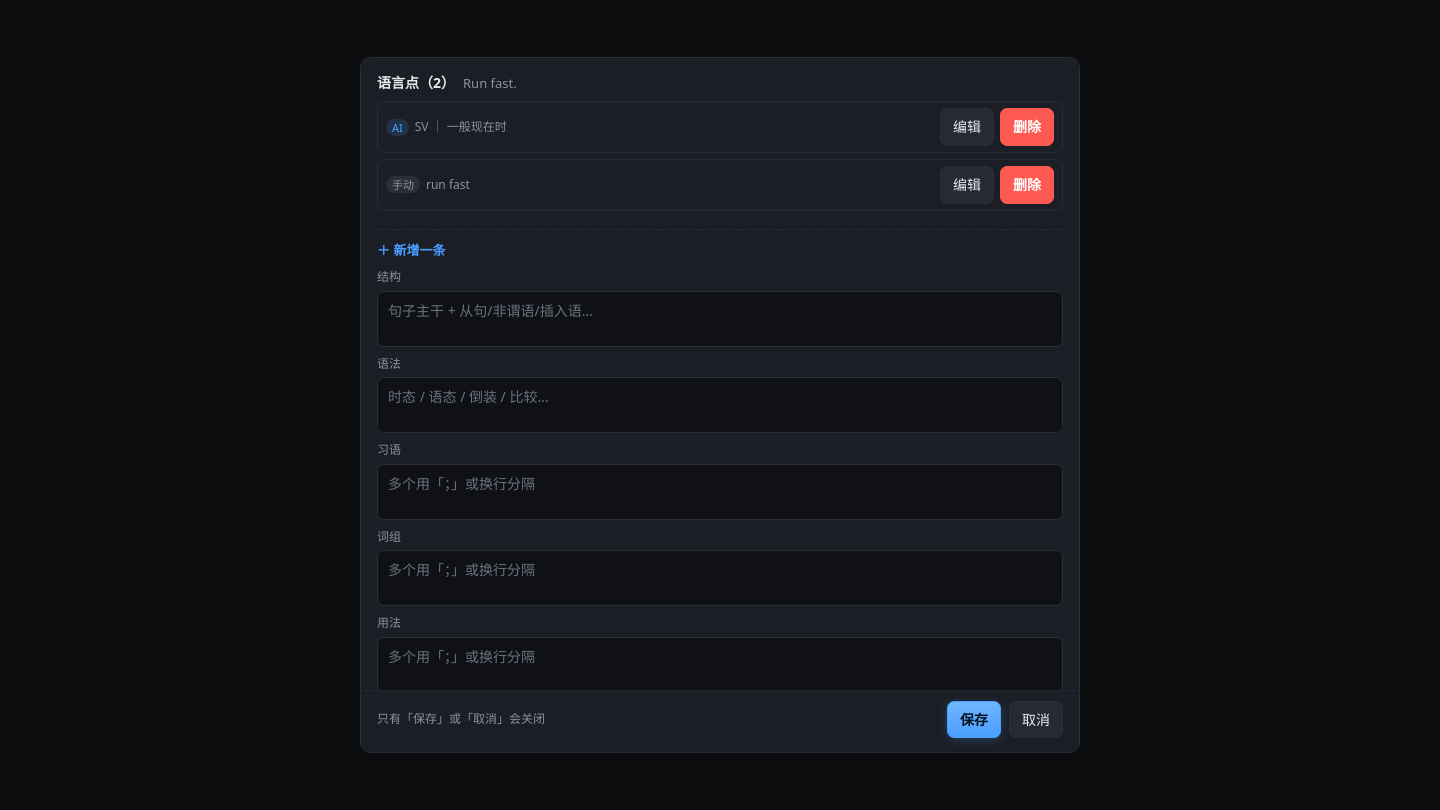
Test: LanguageEditor：已有语言点 › 点「删除」不会顺带进入编辑
The image size is (1440, 810).
Click the button "删除" in the row of "SV ｜ 一般现在时".
click(1027, 127)  # box 1000,108 -> 1054,146
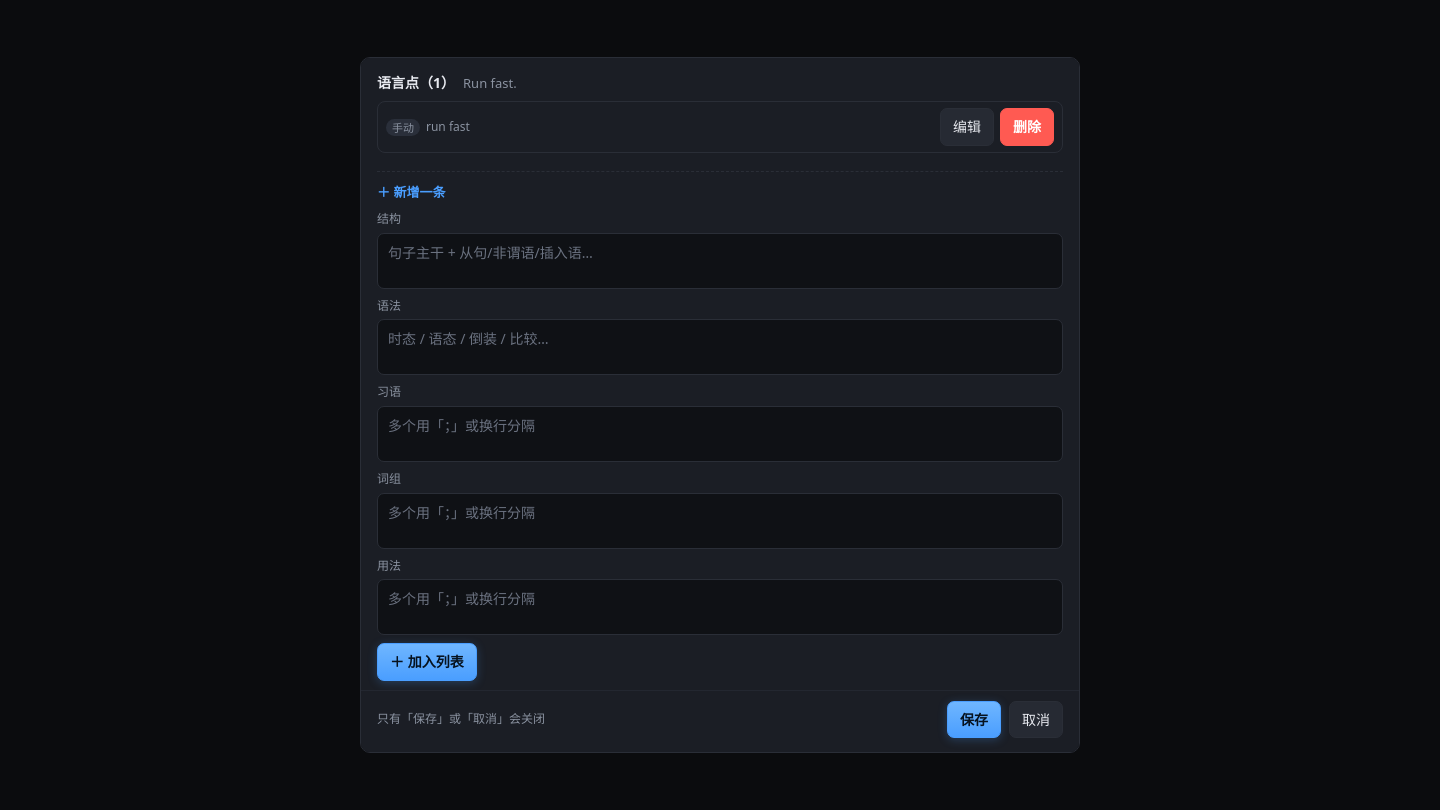
Check: the text "＋ 新增一条" is shown, box 377,183 -> 445,201
Check: the text "语言点（1）" is shown, box 377,72 -> 455,93
